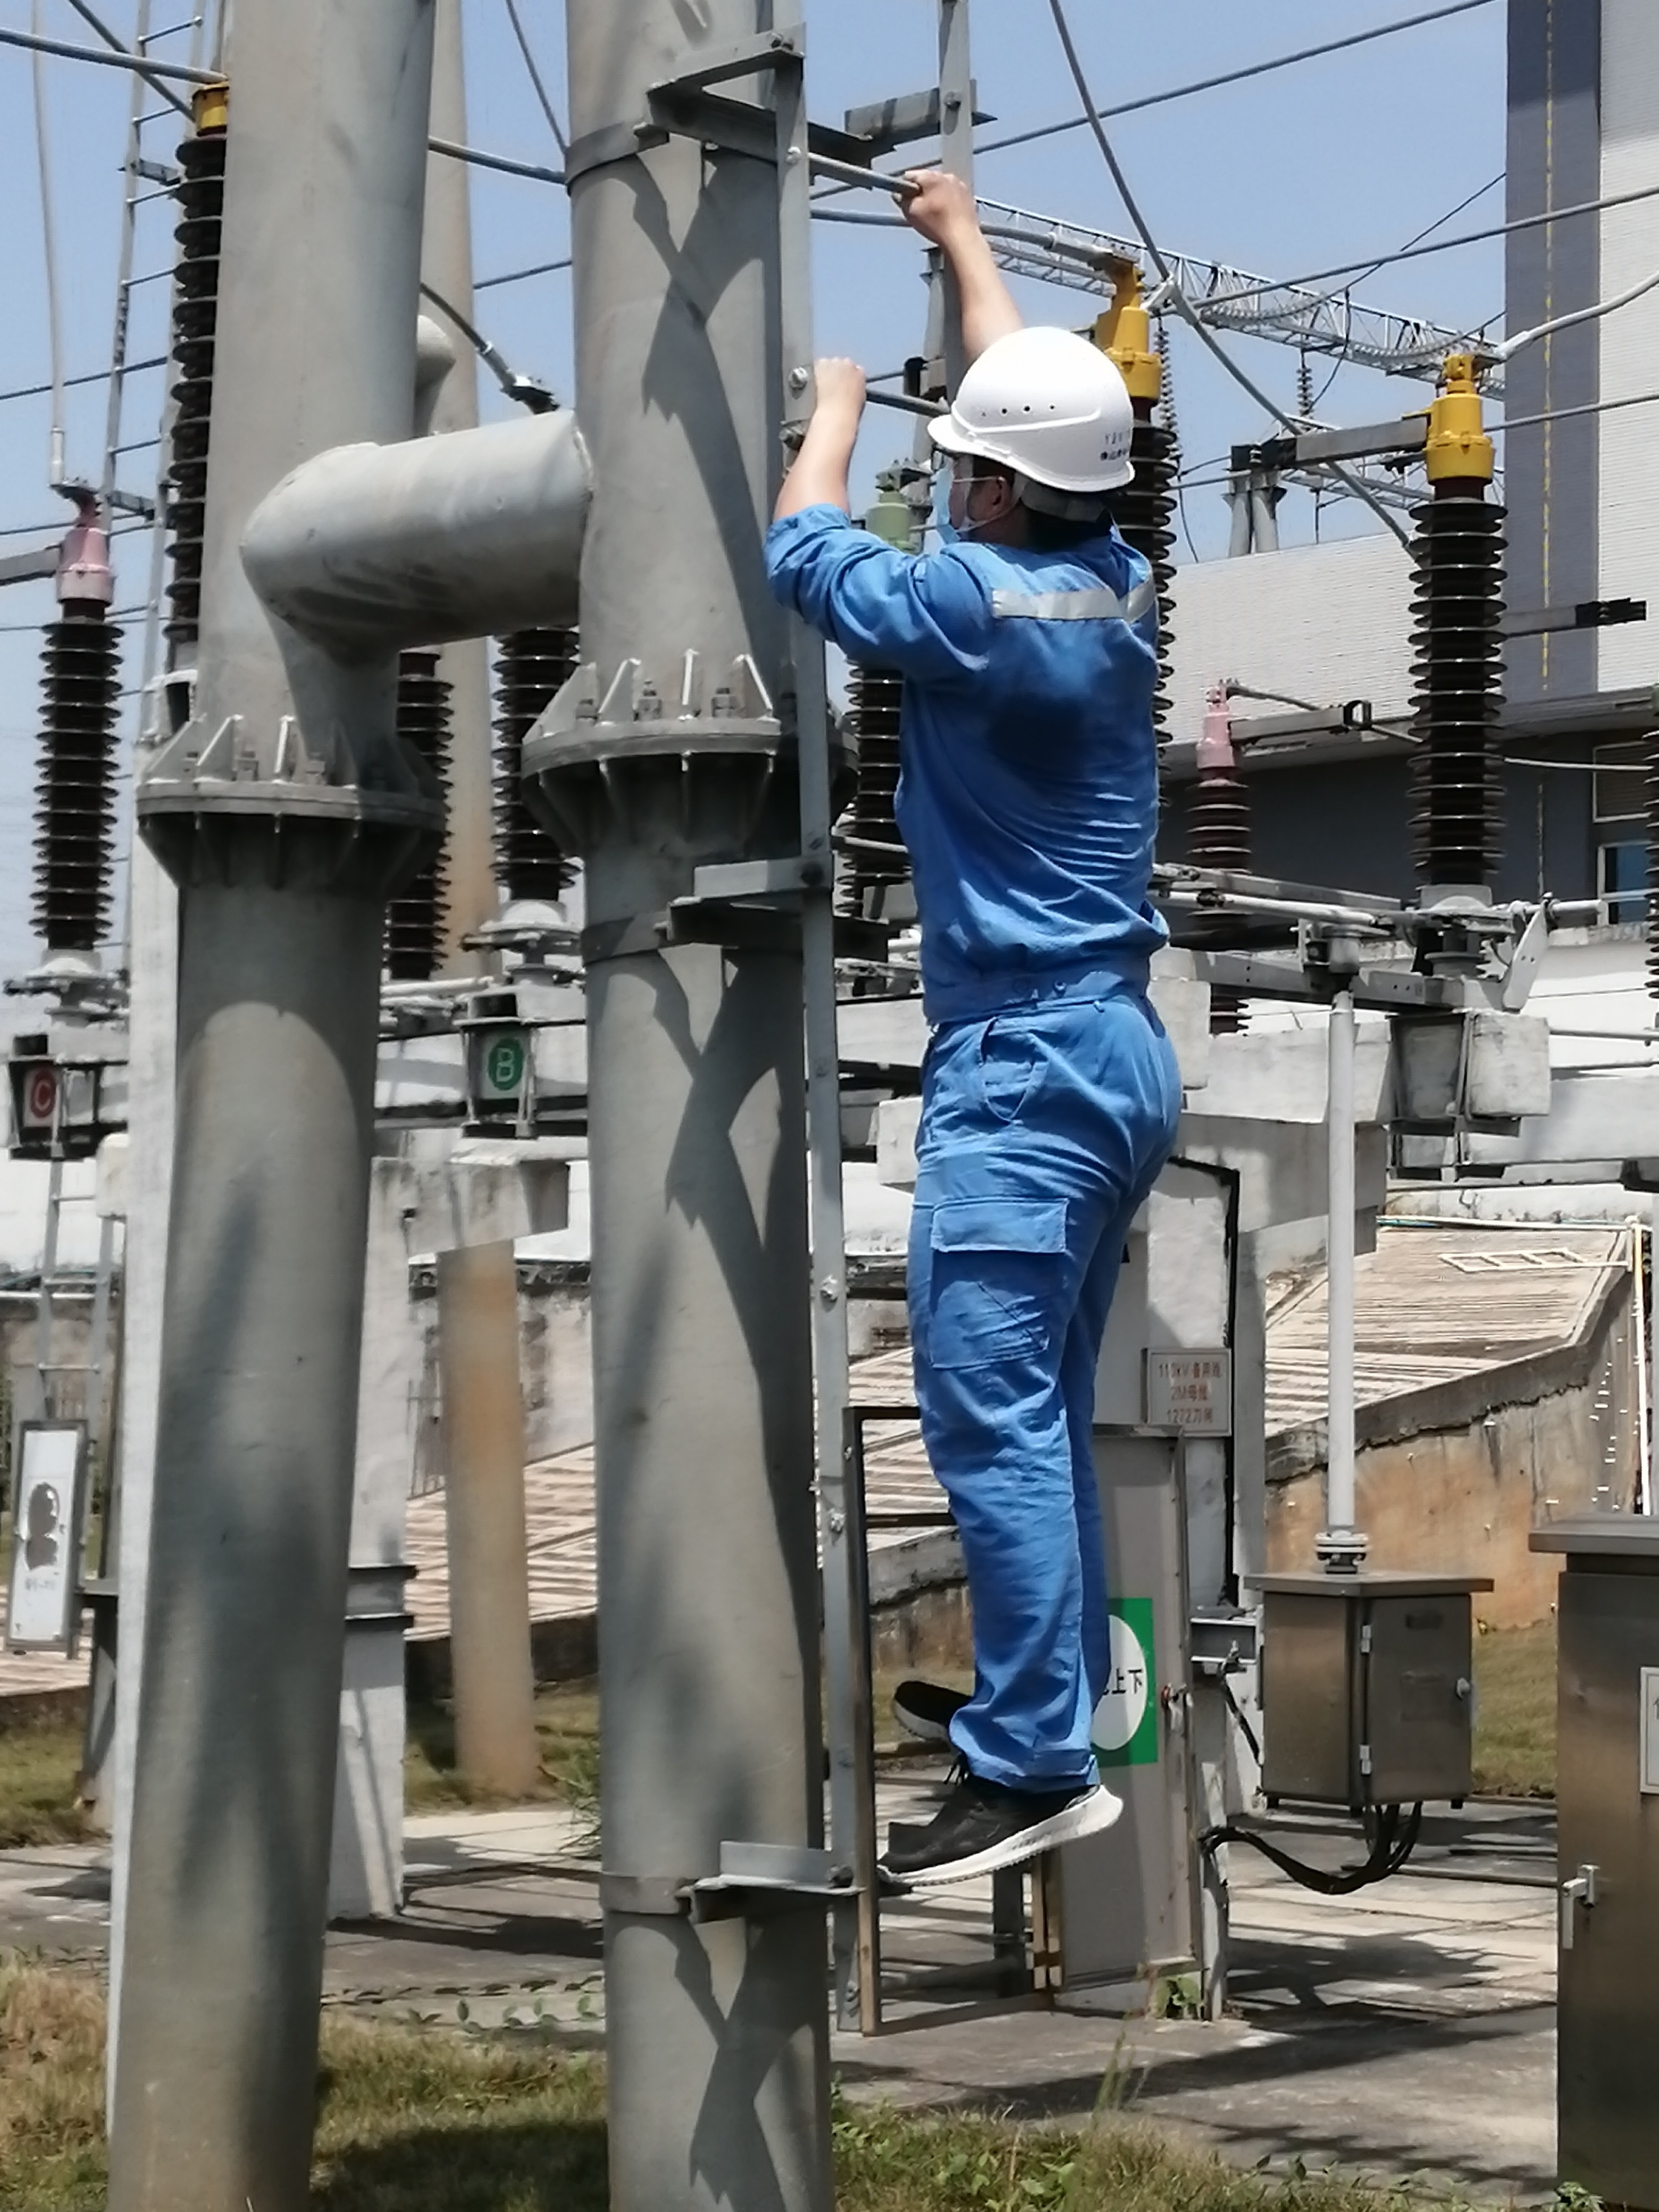downsuit: (892, 1022, 1183, 1771)
upsuit: (791, 523, 1182, 1001)
wrongtop: (758, 355, 884, 585), (910, 164, 1018, 383)
